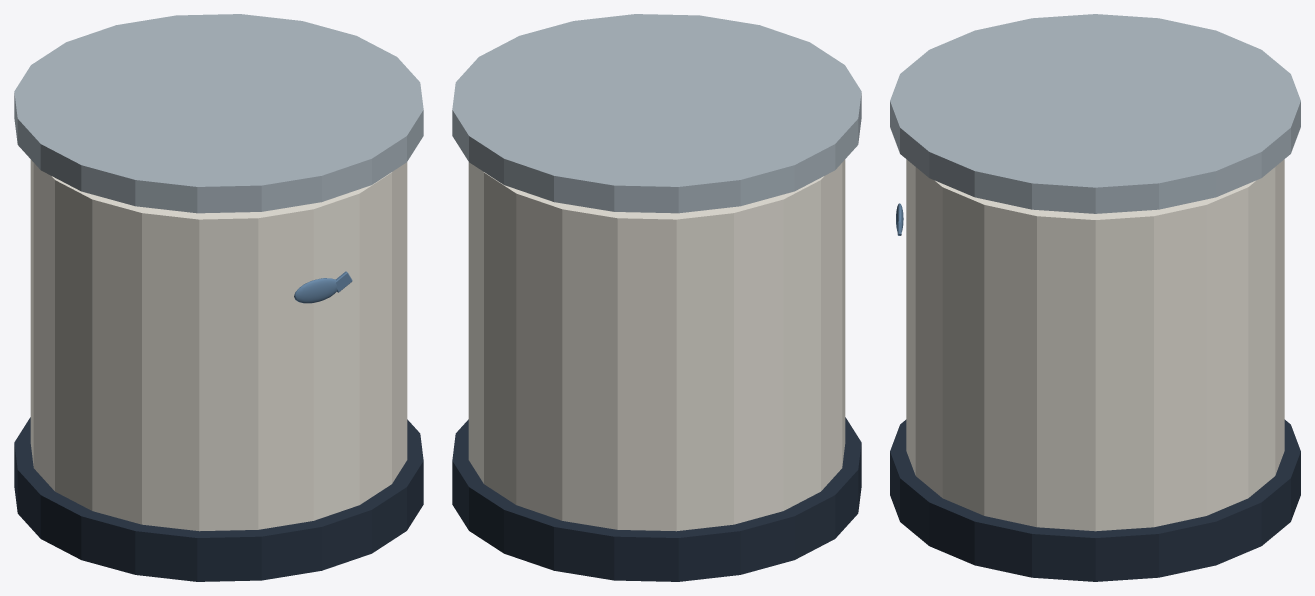
The model's file is retail_06.glb.
3 views of the same model, side by side, from view 1: azimuth 30°, elevation 25°; view 2: azimuth 150°, elevation 25°; view 3: azimuth 270°, elevation 25° (orthographic).
Visible parts, largest first — view 1: PlinthBody, DisplayCap, PlinthFoot, WhaleBody; view 2: PlinthBody, DisplayCap, PlinthFoot; view 3: PlinthBody, DisplayCap, PlinthFoot.
Part boxes in pixels (bbox=[...]): PlinthBody: bbox=[30, 159, 407, 531]; DisplayCap: bbox=[14, 14, 423, 213]; PlinthFoot: bbox=[14, 417, 423, 581]; WhaleBody: bbox=[294, 278, 337, 303]; PlinthBody: bbox=[468, 159, 845, 531]; DisplayCap: bbox=[452, 14, 861, 213]; PlinthFoot: bbox=[452, 417, 861, 581]; PlinthBody: bbox=[906, 159, 1284, 531]; DisplayCap: bbox=[890, 14, 1300, 213]; PlinthFoot: bbox=[890, 419, 1300, 581].
Bounding box in the file's own units: 0.85 × 0.9 × 0.85.
